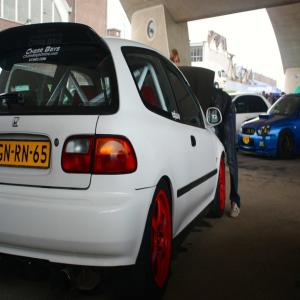Vehicle-registration-plate: (1, 139, 51, 168)
